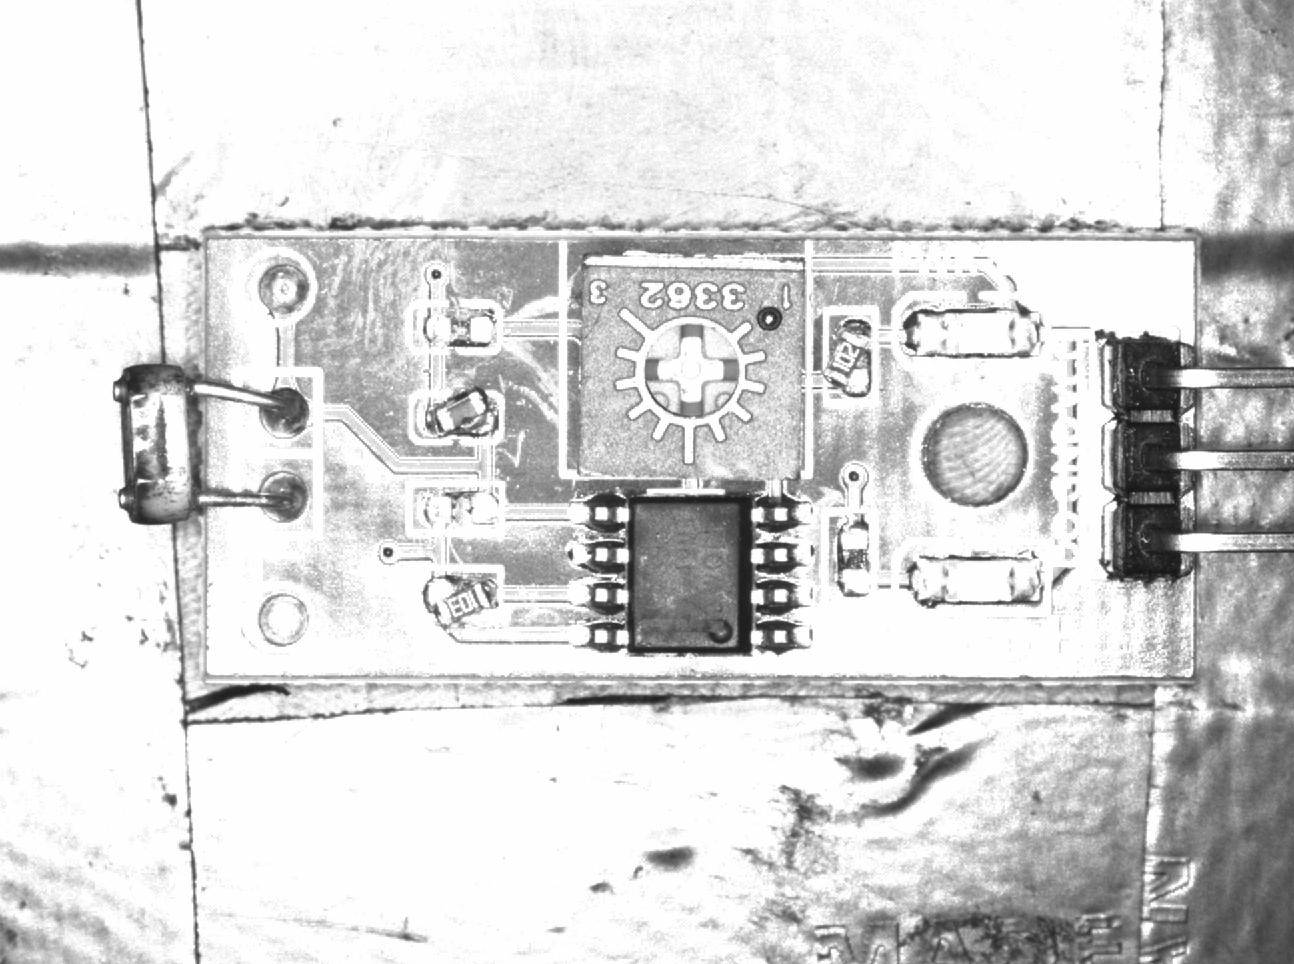lifted: (816, 305, 879, 405), (414, 564, 502, 623), (410, 388, 504, 443)
miss: (407, 479, 506, 537), (410, 302, 504, 353), (827, 512, 878, 602)
